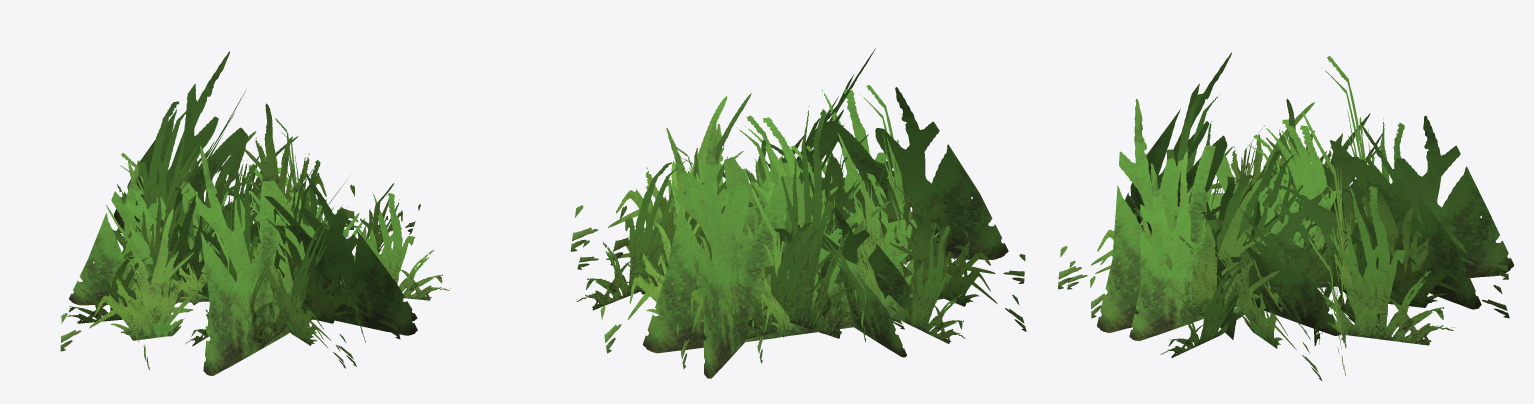
File: Groupe_Herbe_02.fbx
3 views of the same model, side by side, from view 1: azimuth 30°, elevation 25°; view 2: azimuth 150°, elevation 25°; view 3: azimuth 270°, elevation 25° (orthographic). The views are drawn at different scales.
Parts seen in each view (by area): view 1: Groupe_Herbe_02; view 2: Groupe_Herbe_02; view 3: Groupe_Herbe_02.
Boxes of the visible parts, x1,y1,x2,y2 form: Groupe_Herbe_02: (60, 51, 450, 375); Groupe_Herbe_02: (570, 48, 1026, 378); Groupe_Herbe_02: (1058, 52, 1514, 380).
Bounding box in the file's own units: 2.14 × 1.17 × 2.01.
